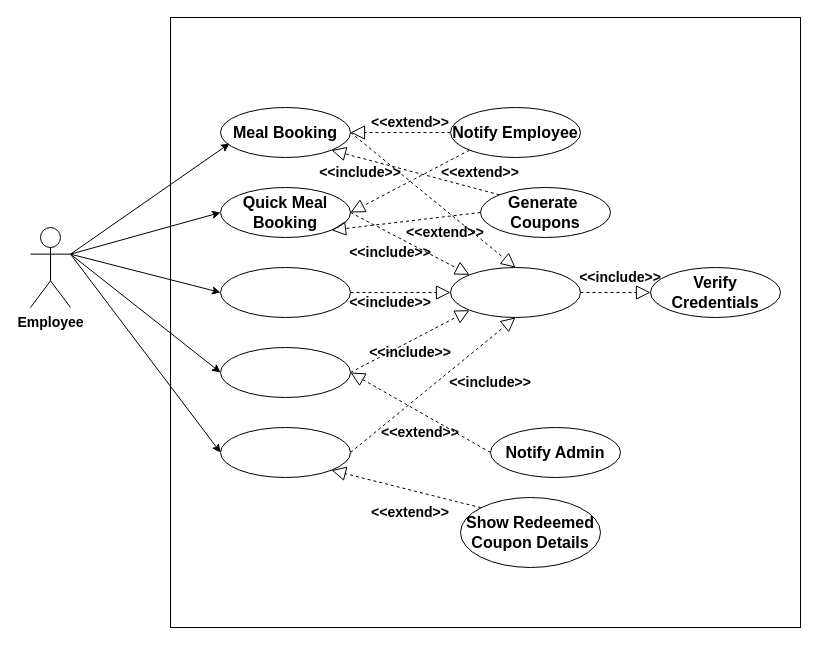
Some shapes in this 818 by 645 pixel diagram are drawn without their labels. The box of each missing label's shape, as (x1, y1, x2, y2) in pixels:
Cancel Booking: (220, 346, 350, 398)
Login: (450, 266, 580, 318)
Redeem Coupon: (220, 426, 350, 478)
View Booking: (220, 266, 350, 318)
